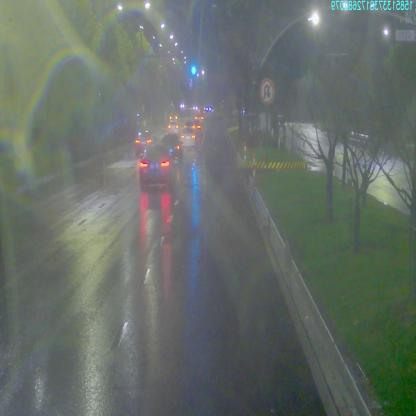traffic-light: (190, 62, 199, 76)
